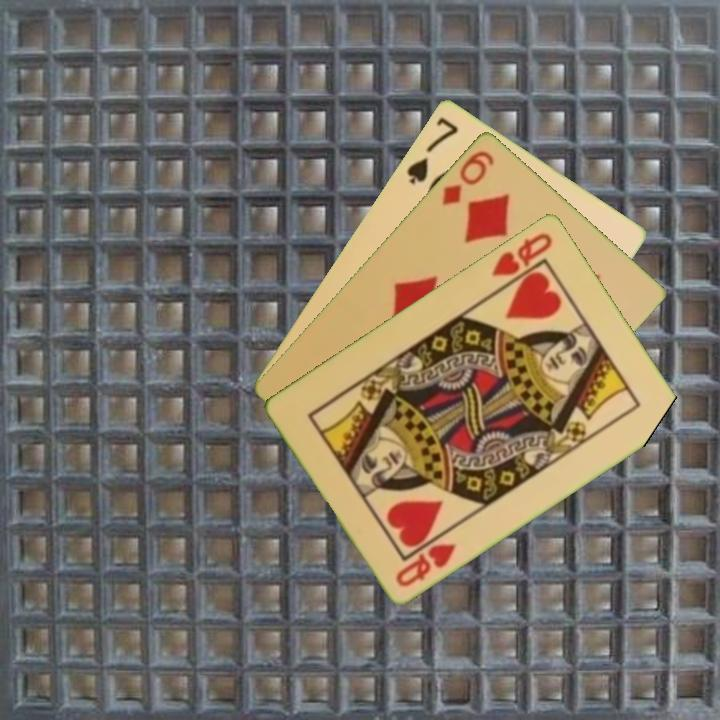6d: (438, 146, 498, 208)
7s: (403, 113, 461, 187)
Qh: (488, 228, 556, 279), (392, 539, 460, 590)
